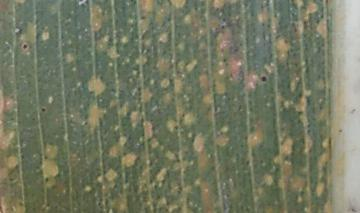tarspot: (21, 42, 30, 51), (259, 75, 269, 83), (40, 106, 48, 113), (17, 28, 24, 36), (222, 57, 227, 63)
